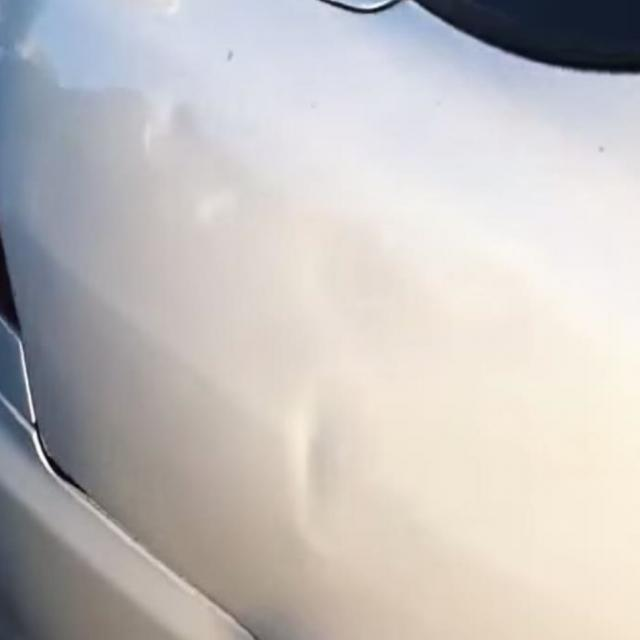dents: (280, 364, 368, 566), (150, 79, 228, 184)
